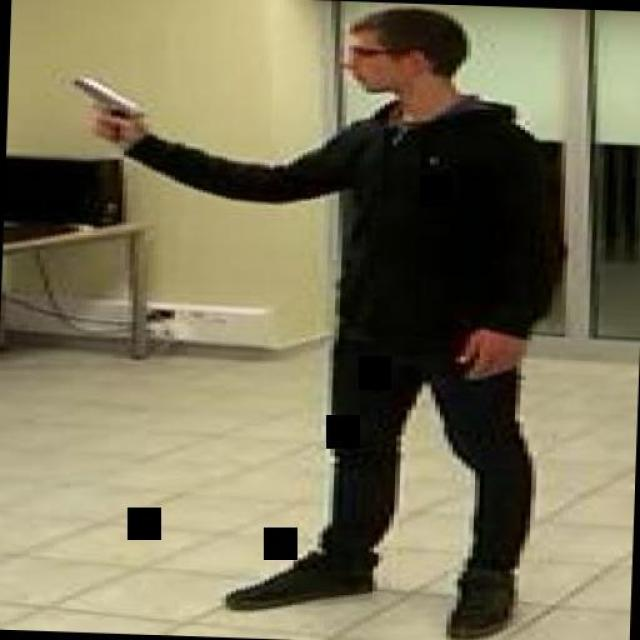gun: (54, 68, 141, 138)
